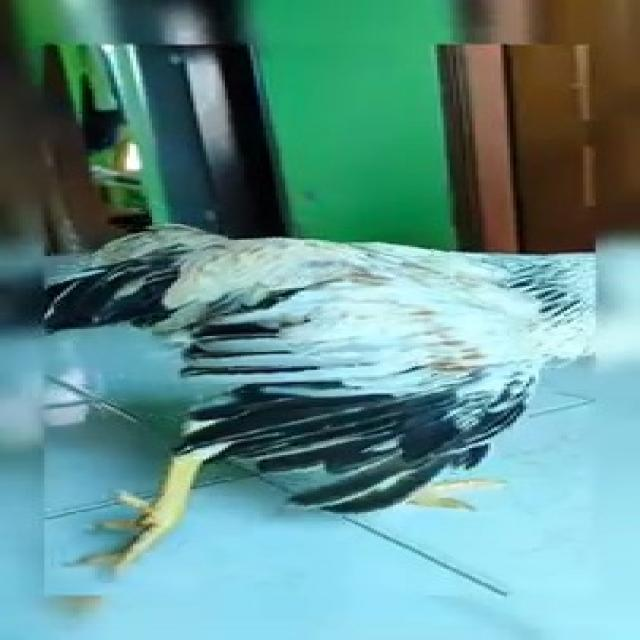wing and leg stretching: (54, 192, 592, 597)
